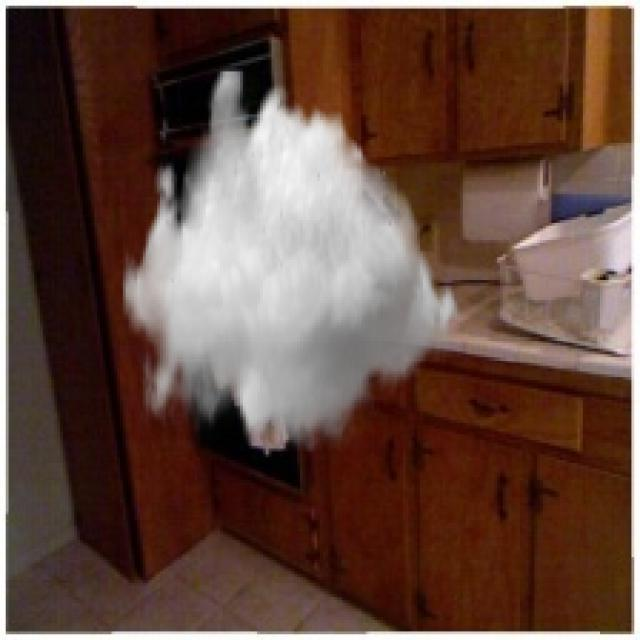Smoke: (123, 69, 466, 452)
